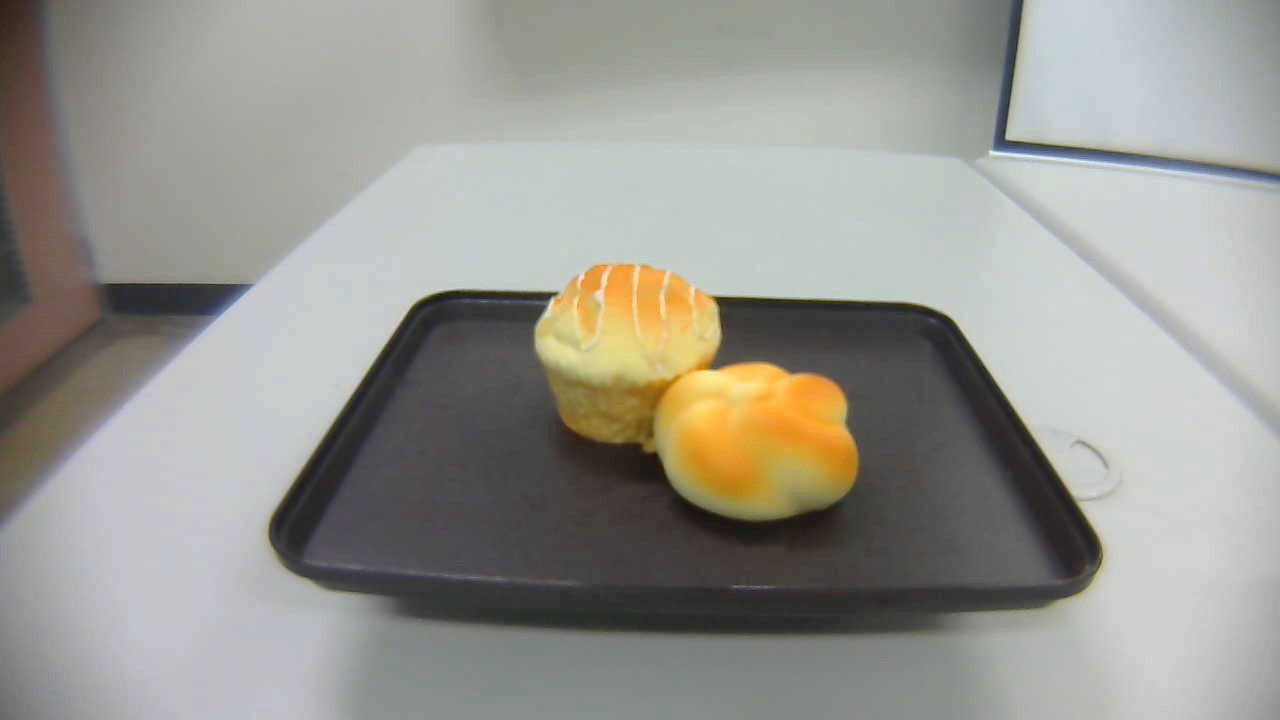cupcake: (533, 262, 723, 444)
twist bread: (656, 361, 859, 526)
